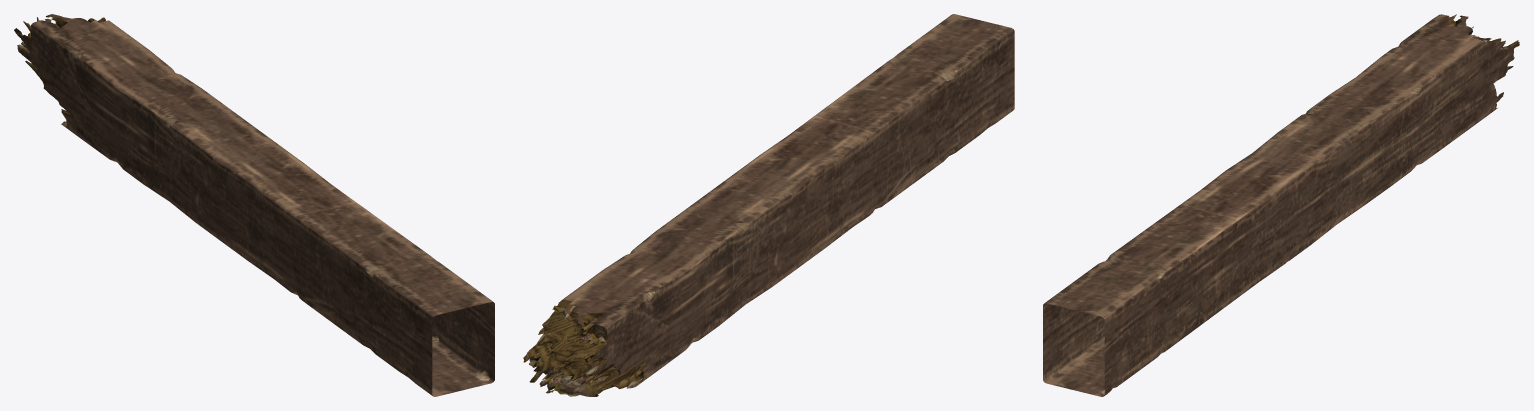
Rendered from SM_Wood_01.fbx.
3 views of the same model, side by side, from view 1: azimuth 30°, elevation 25°; view 2: azimuth 150°, elevation 25°; view 3: azimuth 330°, elevation 25° (orthographic). The views are drawn at different scales.
Visible parts, largest first — view 1: SM_Wood_01_LOD0; view 2: SM_Wood_01_LOD0; view 3: SM_Wood_01_LOD0.
Part boxes in pixels (left/top/right/bottom): SM_Wood_01_LOD0: left=14, top=14, right=494, bottom=396; SM_Wood_01_LOD0: left=523, top=14, right=1014, bottom=396; SM_Wood_01_LOD0: left=1043, top=14, right=1519, bottom=396.
Size of the model in its own units: 35.54 by 418 by 44.09.
